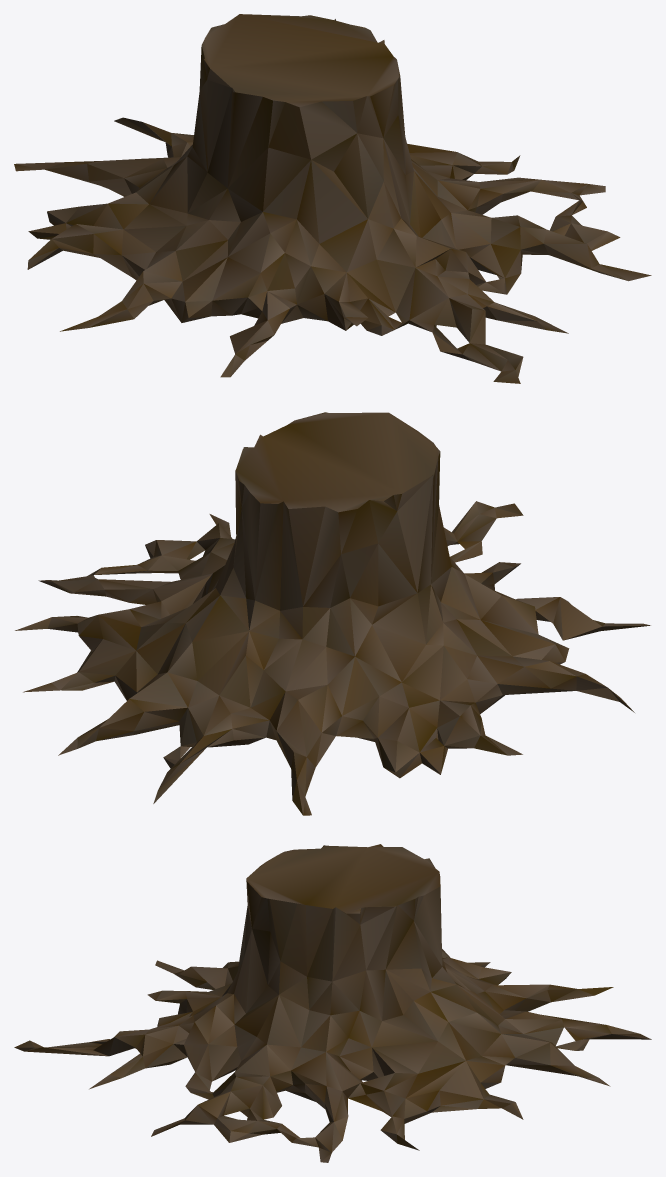
File: walnut_stump.glb
3 views of the same model, one above another, from view 1: azimuth 30°, elevation 25°; view 2: azimuth 150°, elevation 25°; view 3: azimuth 270°, elevation 25° (orthographic). The views are drawn at different scales.
Parts seen in each view (by area): view 1: Stump; view 2: Stump; view 3: Stump.
Boxes of the visible parts, x1,y1,x2,y2 form: Stump: (14, 14, 651, 383); Stump: (15, 412, 650, 815); Stump: (14, 844, 651, 1162).
Size of the model in its own units: 2.39 by 0.8247 by 2.78.
